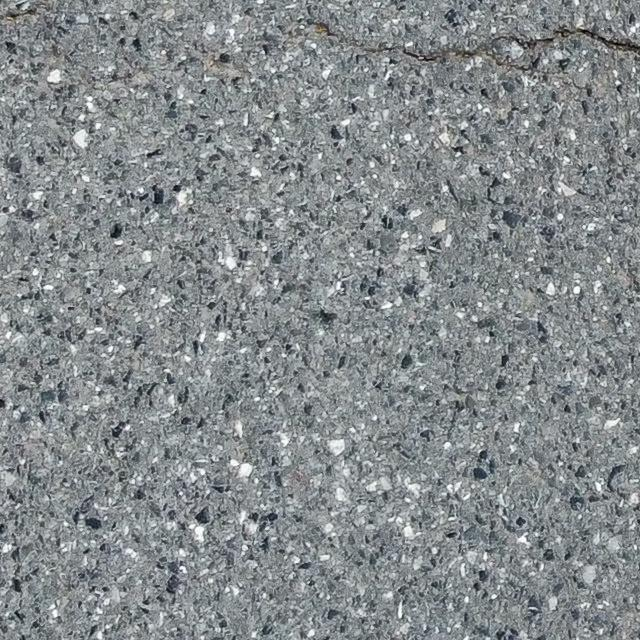TransverseCrack: (304, 21, 640, 76)
